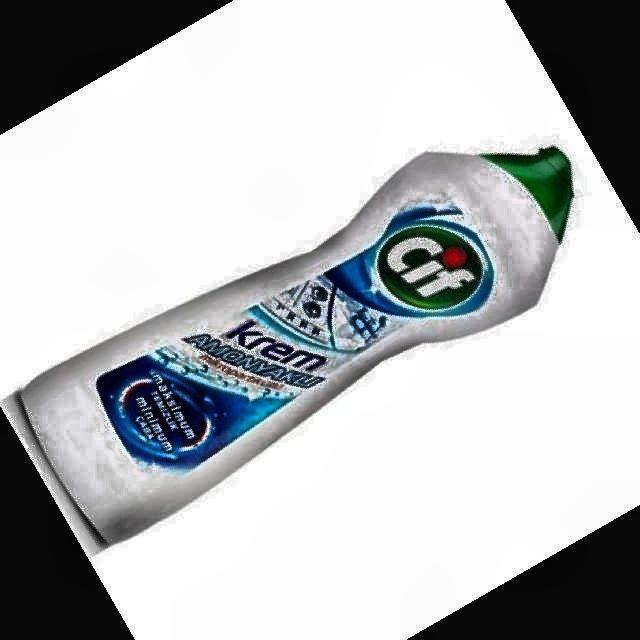plastic: (19, 146, 572, 543)
